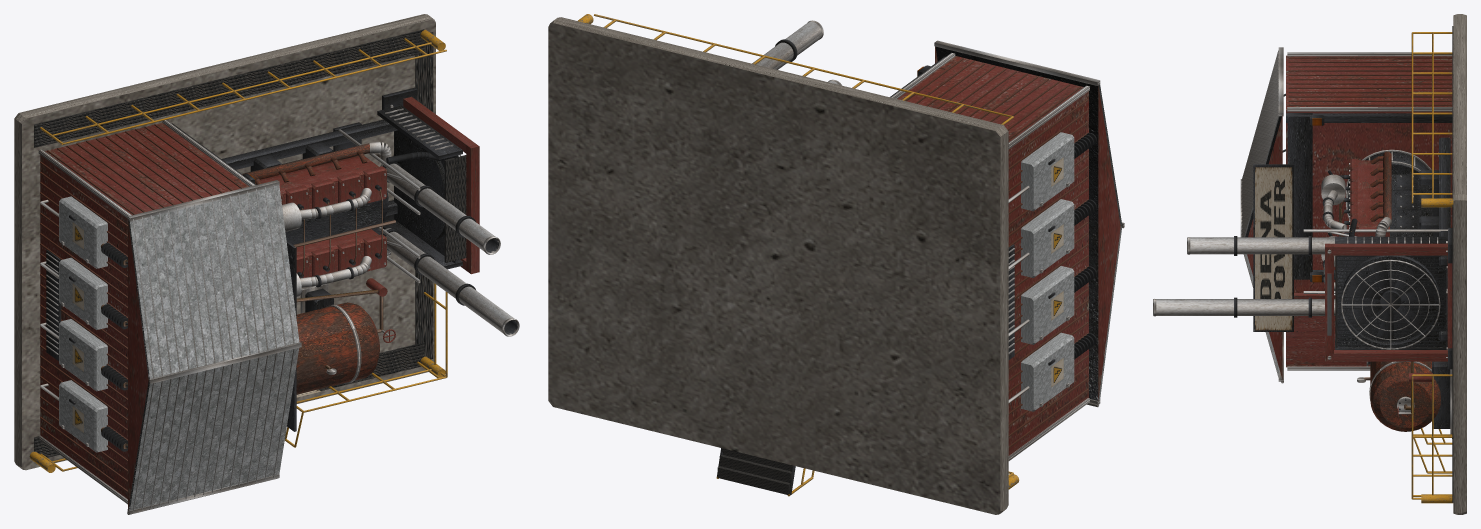
File: PPPower.obj
3 views of the same model, side by side, from view 1: azimuth 30°, elevation 25°; view 2: azimuth 150°, elevation 25°; view 3: azimuth 270°, elevation 25° (orthographic). The views are drawn at different scales.
Parts seen in each view (by area): view 1: foundation, roof-sheet-1, roof-sheet--1, shed-rear-wall, shed-side-wall-20, catwalk-23, fuel-tank, roof-gable--30, stack-outer-1.4, front-catwalk, radiator-shroud-cap0, switch-cabinet-14 (+29 smaller); view 2: foundation, shed-rear-wall, shed-side-wall-20, roof-gable--30, switch-cabinet--13, switch-cabinet--4, switch-cabinet-5, switch-cabinet-14, roof-underside-1, roof-underside--1, stack-outer-11.4, roof-eave-21 (+3 smaller); view 3: shed-side-wall-20, foundation, shed-rear-wall, radiator-core, sign-front, fuel-tank, shed-bay-lintel, stack-outer-1.4, stack-outer-11.4, shed-front-wing, engine-red-bank-11.4, radiator-post-15 (+27 smaller).
Part boxes in pixels (x1=…): foundation: x1=14, y1=14, x2=435, y2=470; roof-sheet-1: x1=130, y1=185, x2=299, y2=378; roof-sheet--1: x1=130, y1=348, x2=299, y2=510; shed-rear-wall: x1=40, y1=155, x2=127, y2=497; shed-side-wall-20: x1=40, y1=122, x2=248, y2=220; catwalk-23: x1=34, y1=29, x2=424, y2=147; fuel-tank: x1=296, y1=302, x2=379, y2=394; roof-gable--30: x1=128, y1=219, x2=148, y2=510; stack-outer-1.4: x1=383, y1=228, x2=513, y2=332; front-catwalk: x1=415, y1=32, x2=433, y2=359; radiator-shroud-cap0: x1=393, y1=136, x2=444, y2=241; switch-cabinet-14: x1=59, y1=196, x2=107, y2=268; foundation: x1=548, y1=17, x2=1008, y2=514; shed-rear-wall: x1=1008, y1=91, x2=1088, y2=453; shed-side-wall-20: x1=897, y1=56, x2=1088, y2=149; roof-gable--30: x1=1098, y1=86, x2=1120, y2=400; switch-cabinet--13: x1=1021, y1=332, x2=1074, y2=411; switch-cabinet--4: x1=1021, y1=266, x2=1074, y2=344; switch-cabinet-5: x1=1021, y1=199, x2=1074, y2=277; switch-cabinet-14: x1=1021, y1=132, x2=1074, y2=211; roof-underside-1: x1=935, y1=46, x2=1098, y2=221; roof-underside--1: x1=1089, y1=219, x2=1098, y2=400; stack-outer-11.4: x1=752, y1=22, x2=821, y2=69; roof-eave-21: x1=934, y1=40, x2=1100, y2=85; shed-side-wall-20: x1=1286, y1=55, x2=1452, y2=113; foundation: x1=1453, y1=14, x2=1466, y2=514; shed-rear-wall: x1=1286, y1=123, x2=1452, y2=292; radiator-core: x1=1337, y1=256, x2=1446, y2=346; sign-front: x1=1255, y1=167, x2=1292, y2=330; fuel-tank: x1=1370, y1=361, x2=1440, y2=431; shed-bay-lintel: x1=1287, y1=113, x2=1312, y2=279; stack-outer-1.4: x1=1156, y1=299, x2=1335, y2=315; stack-outer-11.4: x1=1190, y1=237, x2=1334, y2=254; shed-front-wing: x1=1286, y1=293, x2=1370, y2=366; engine-red-bank-11.4: x1=1353, y1=160, x2=1389, y2=236; radiator-post-15: x1=1329, y1=243, x2=1447, y2=255.
Bounding box in the file's own units: 64 × 56.16 × 46.13.
1 material, 1 textured.
